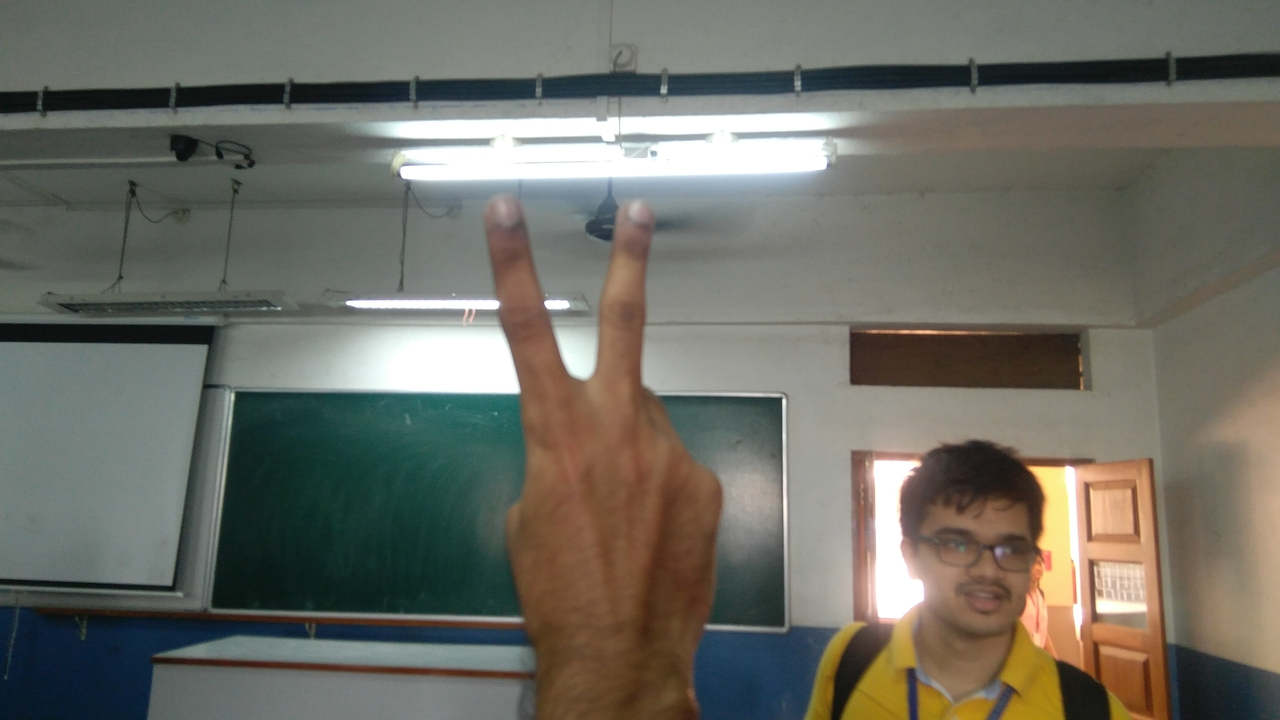fingertip: (604, 186, 664, 242), (478, 184, 534, 238)
